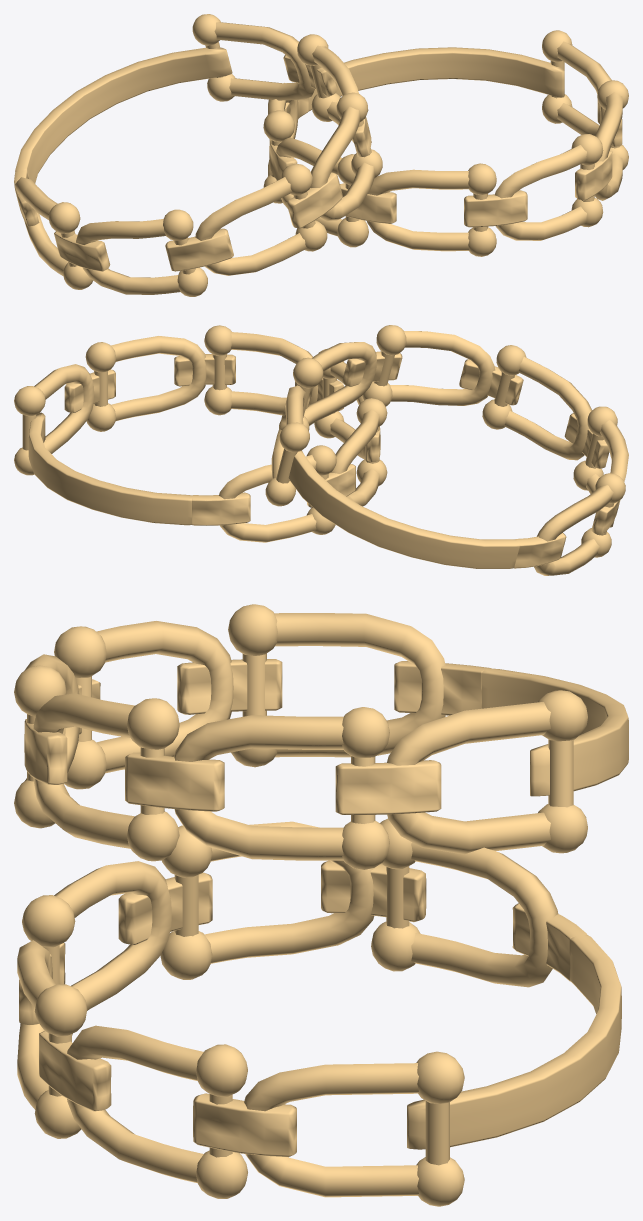
File: HardwareClipEarring.glb
The picture shows the model from 3 angles, top to bottom: view 1: azimuth 30°, elevation 25°; view 2: azimuth 150°, elevation 25°; view 3: azimuth 270°, elevation 25°; orthographic projection. The views are drawn at different scales.
Visible parts, largest first — view 1: HardwareClip.001, HardwareClip; view 2: HardwareClip.001, HardwareClip; view 3: HardwareClip, HardwareClip.001.
Boxes of the visible parts, box(x1,y1,x2,y2) form: HardwareClip.001: box(14, 14, 382, 296); HardwareClip: box(263, 30, 628, 256); HardwareClip.001: box(265, 325, 628, 575); HardwareClip: box(14, 325, 387, 542); HardwareClip: box(17, 818, 621, 1206); HardwareClip.001: box(14, 604, 628, 869).
Bounding box in the file's own units: 10.76 × 3.01 × 6.
